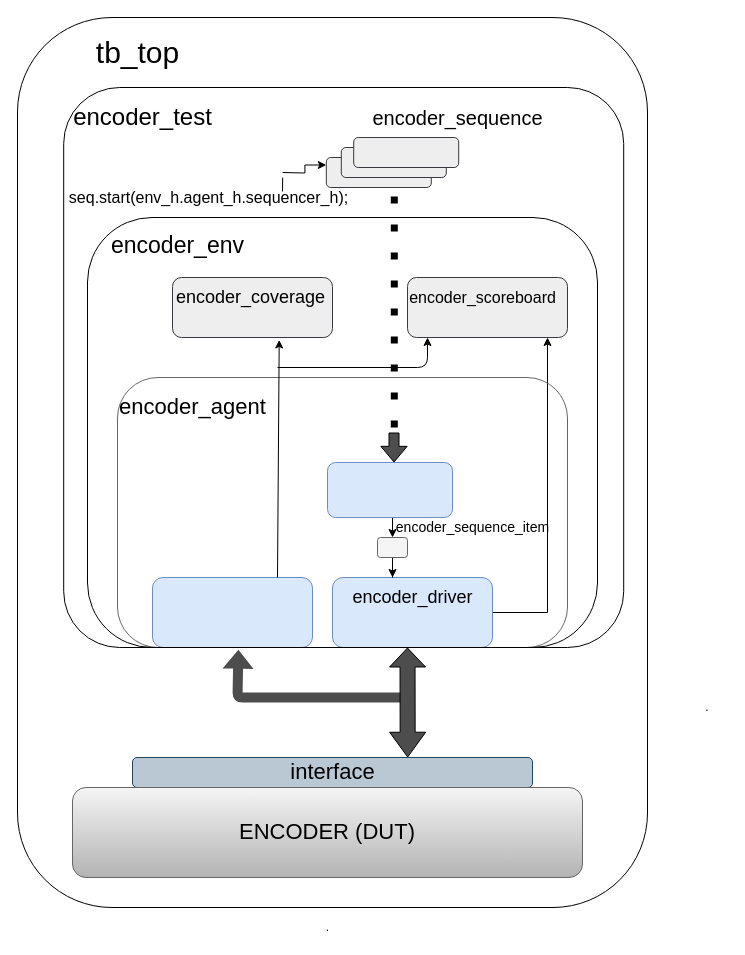
Image size: 745x955. Some labels were removed from this diagram. Here are the shapes that lost their labels. From the top down, the centre of each, then its label:
(x=389, y=490): encoder_sequencer
(x=232, y=612): encoder_monitor
